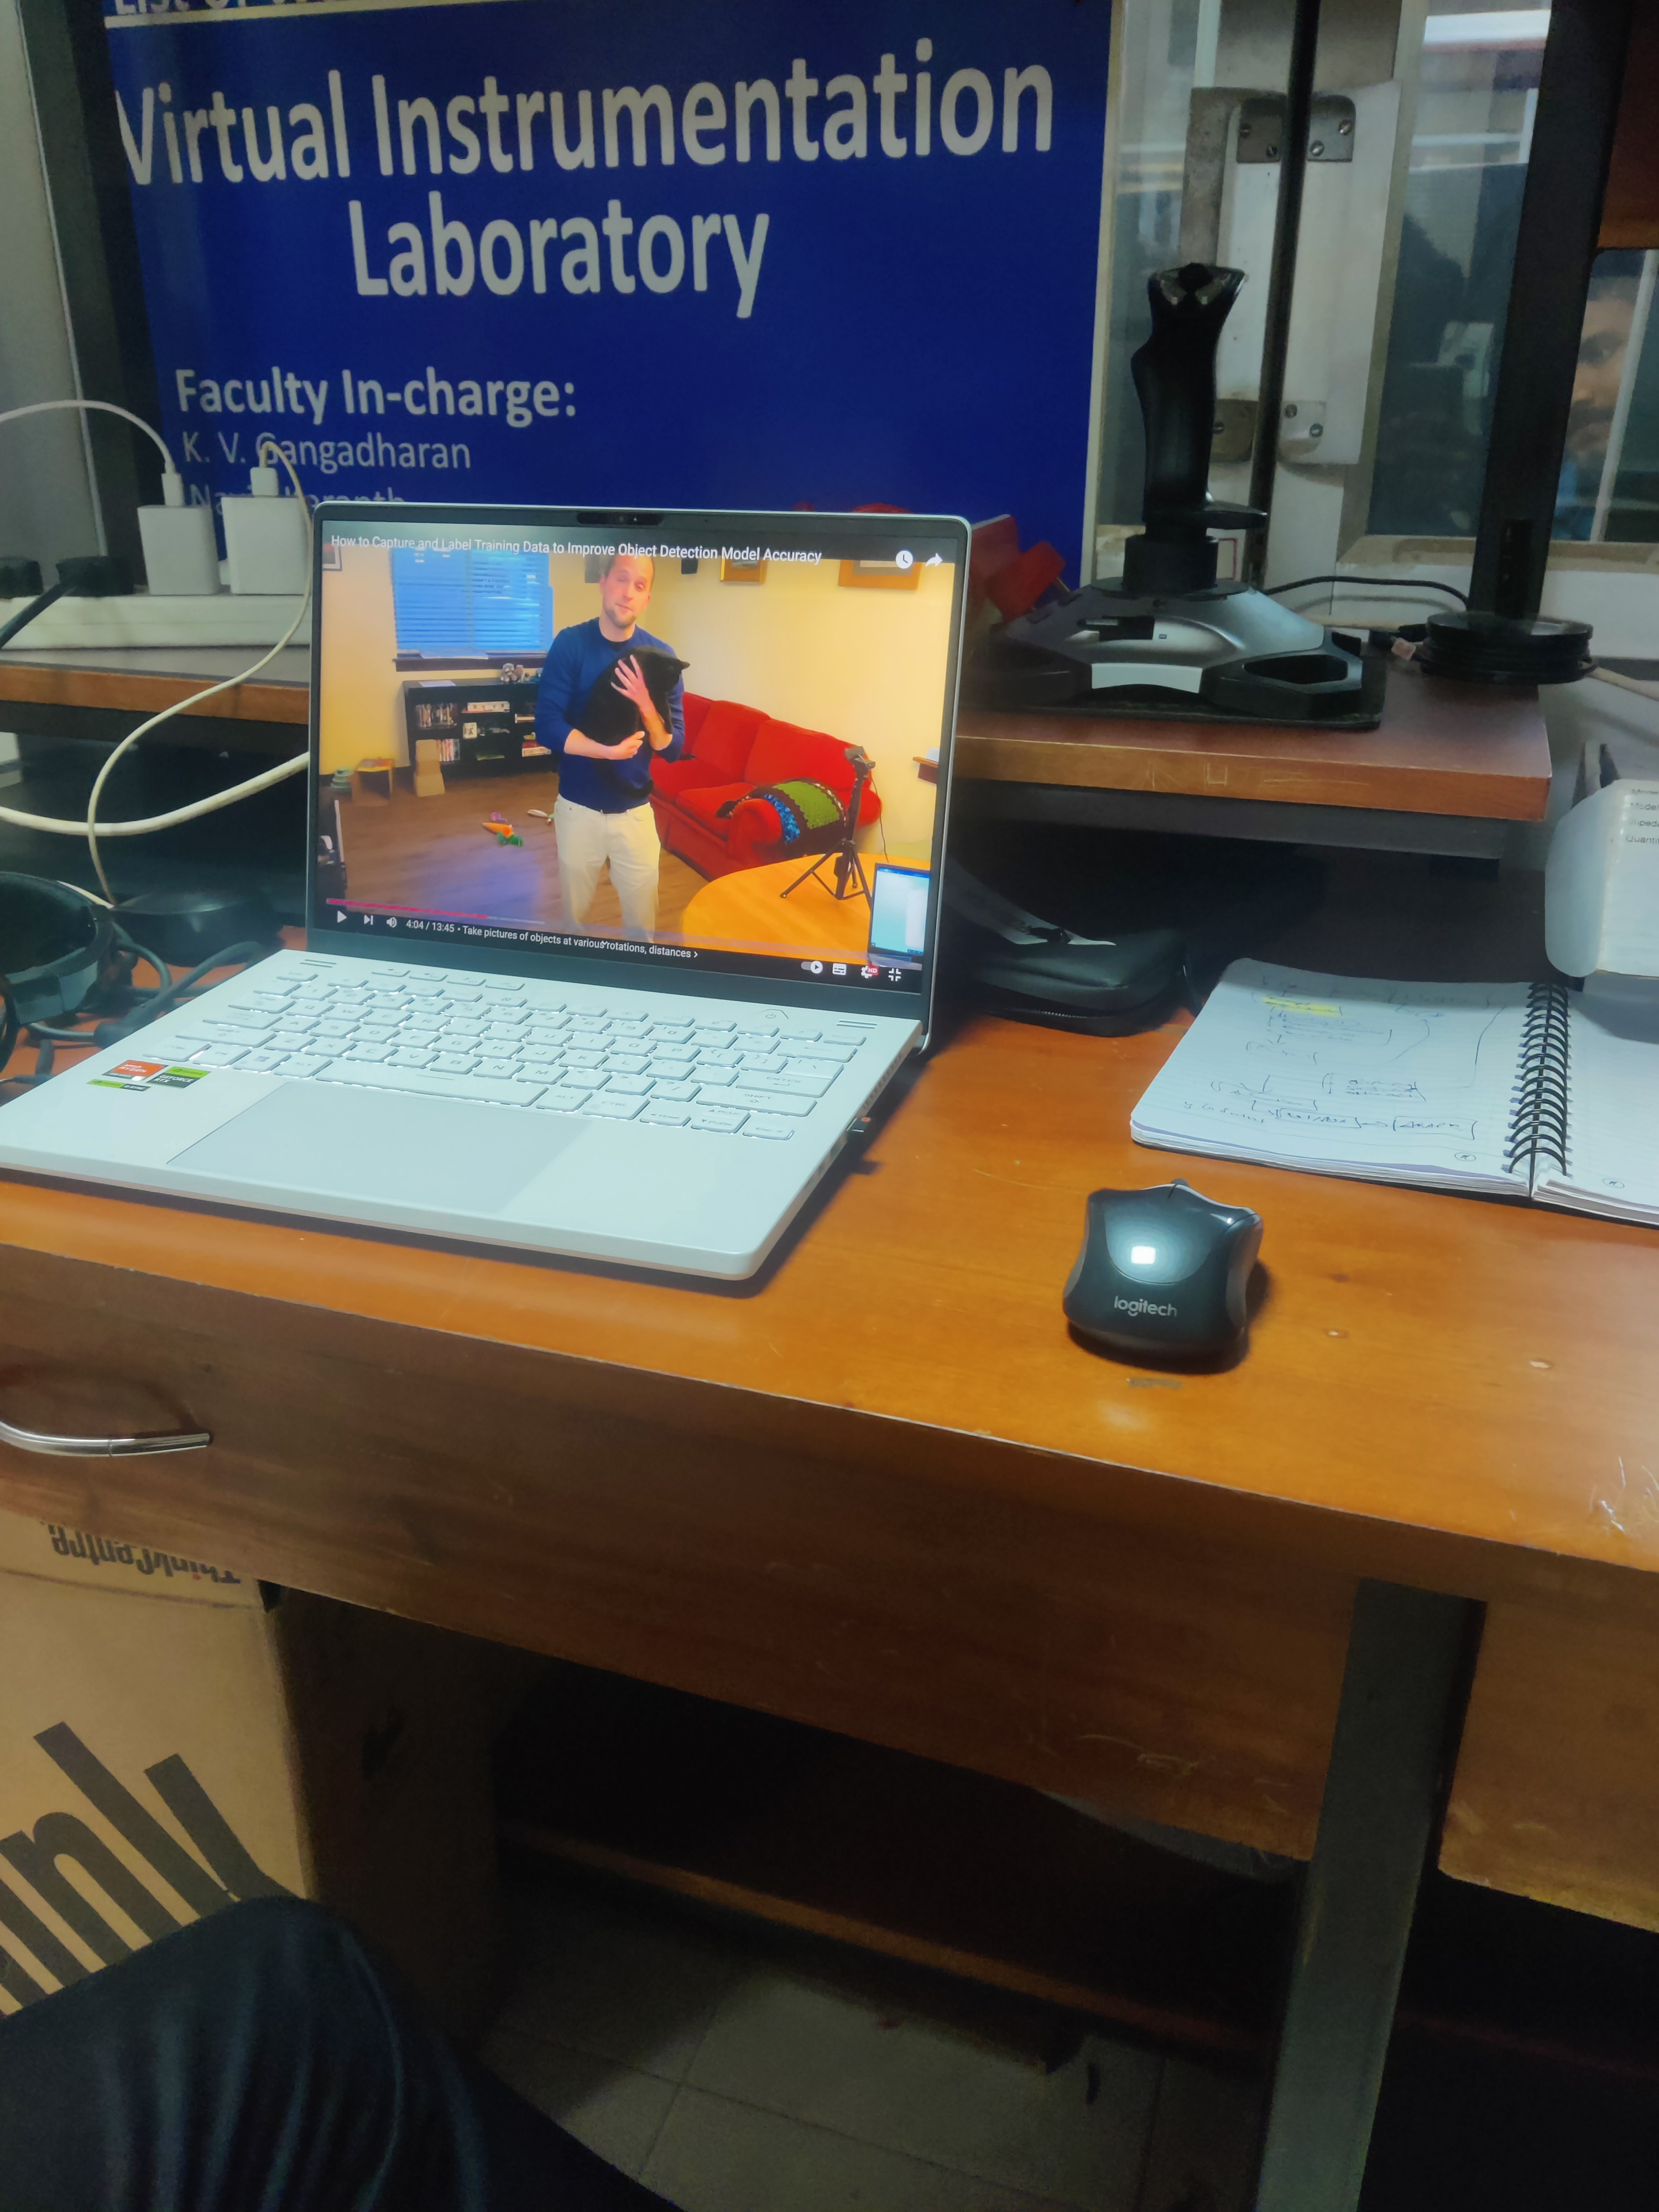logitechMouse: (1060, 1174, 1269, 1381)
